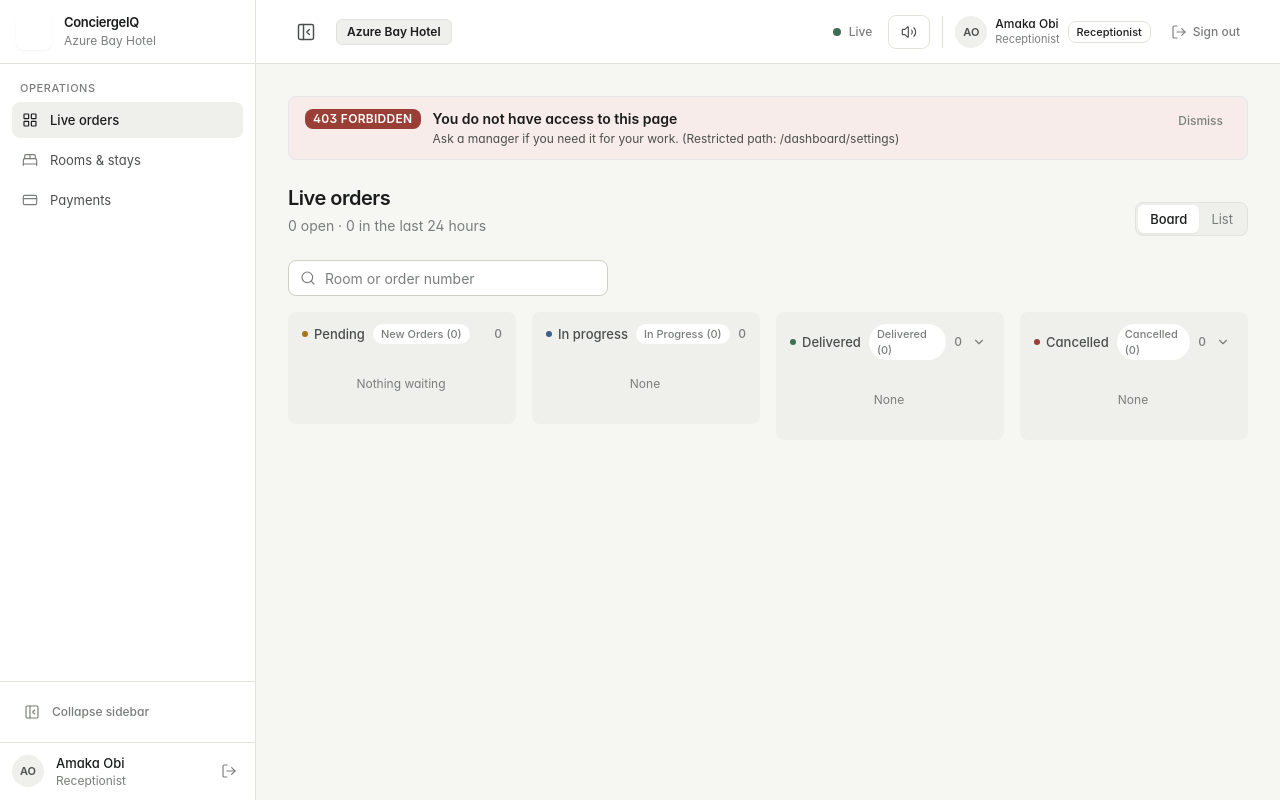
ProtectedRoute authentication and permission guards › redirects a signed-in RECEPTIONIST user from /dashboard/settings to /dashboard/orders with a 403 banner
expect the heading "Live orders" is shown: met, box x1=288 y1=186 x2=390 y2=210
expect the message with test id "access-denied-banner" shows "403 Forbidden": met, box x1=313 y1=111 x2=412 y2=126
Dismissing the 403 alert hides the banner while keeping the user on Live Orders
Click the button with aria-label "Dismiss access alert" at point(1201, 121), box x1=1170 y1=109 x2=1231 y2=133
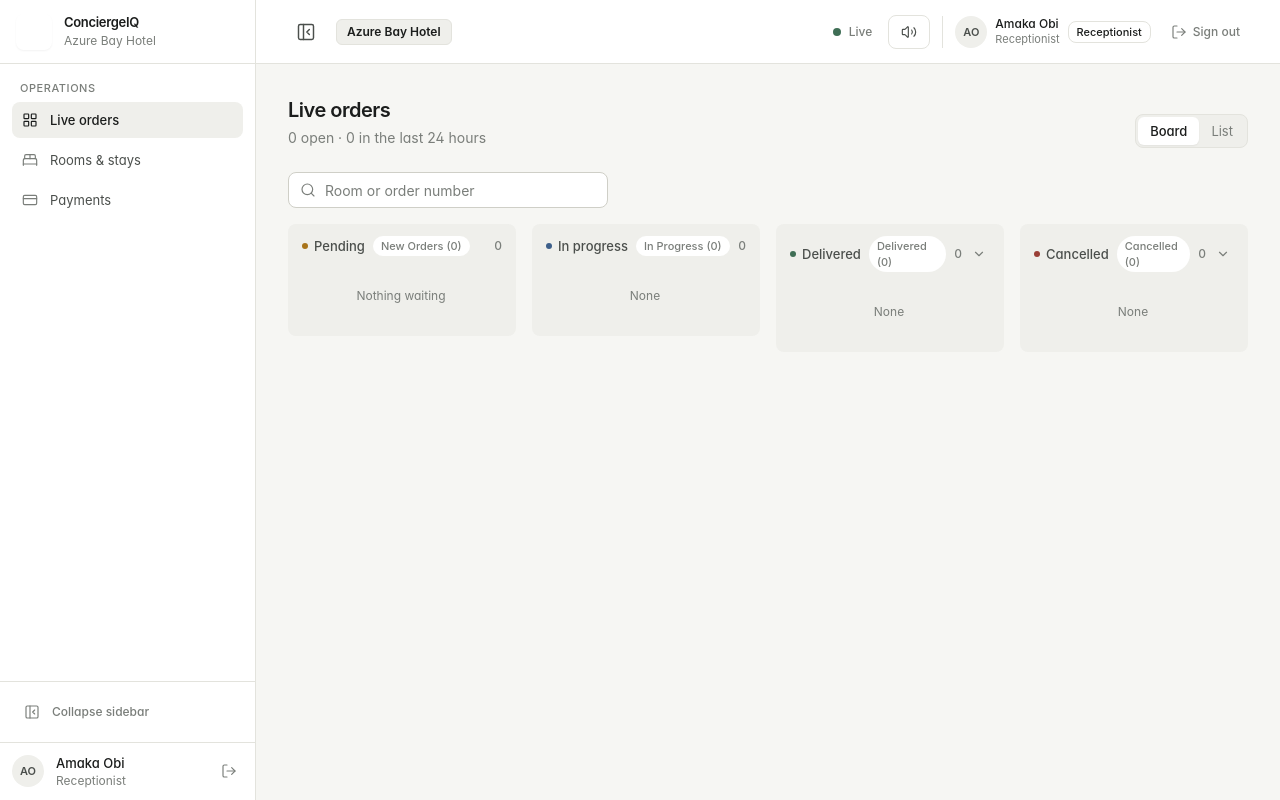
expect the message with test id "access-denied-banner" is gone: met
